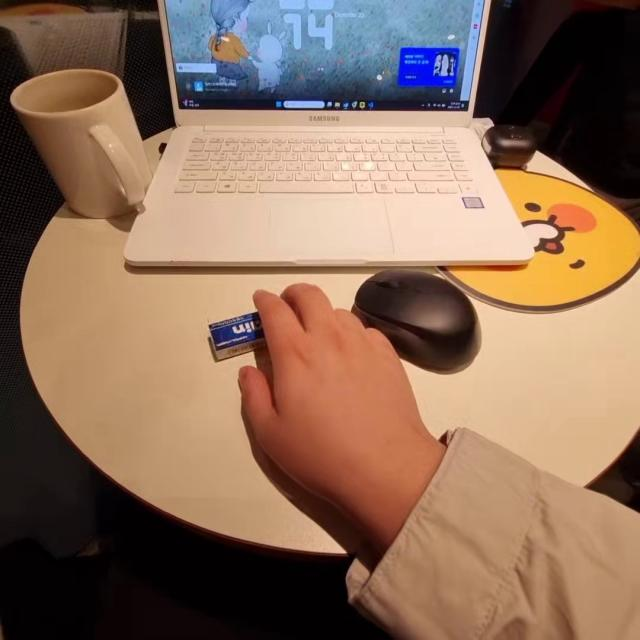eraser: (198, 290, 280, 362)
grab_eraser: (174, 289, 399, 497)
hand: (264, 282, 410, 510)
mouse: (353, 258, 492, 379)
